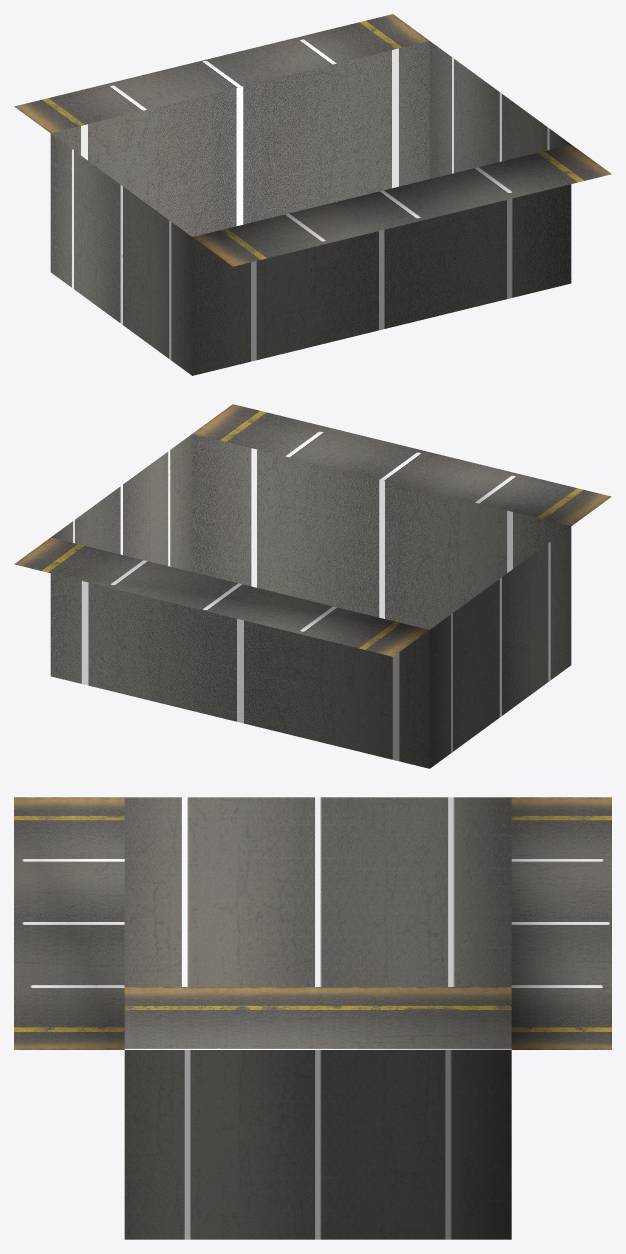
Rendered from road.108.fbx.
3 views of the same model, one above another, from view 1: azimuth 30°, elevation 25°; view 2: azimuth 150°, elevation 25°; view 3: azimuth 270°, elevation 25° (orthographic). The views are drawn at different scales.
Visible parts, largest first — view 1: road_108; view 2: road_108; view 3: road_108.
Boxes of the visible parts, bbox=[...] form: road_108: bbox=[14, 14, 611, 375]; road_108: bbox=[14, 404, 611, 768]; road_108: bbox=[14, 797, 611, 1239].
Bounding box in the file's own units: 8 × 2.8 × 8.
